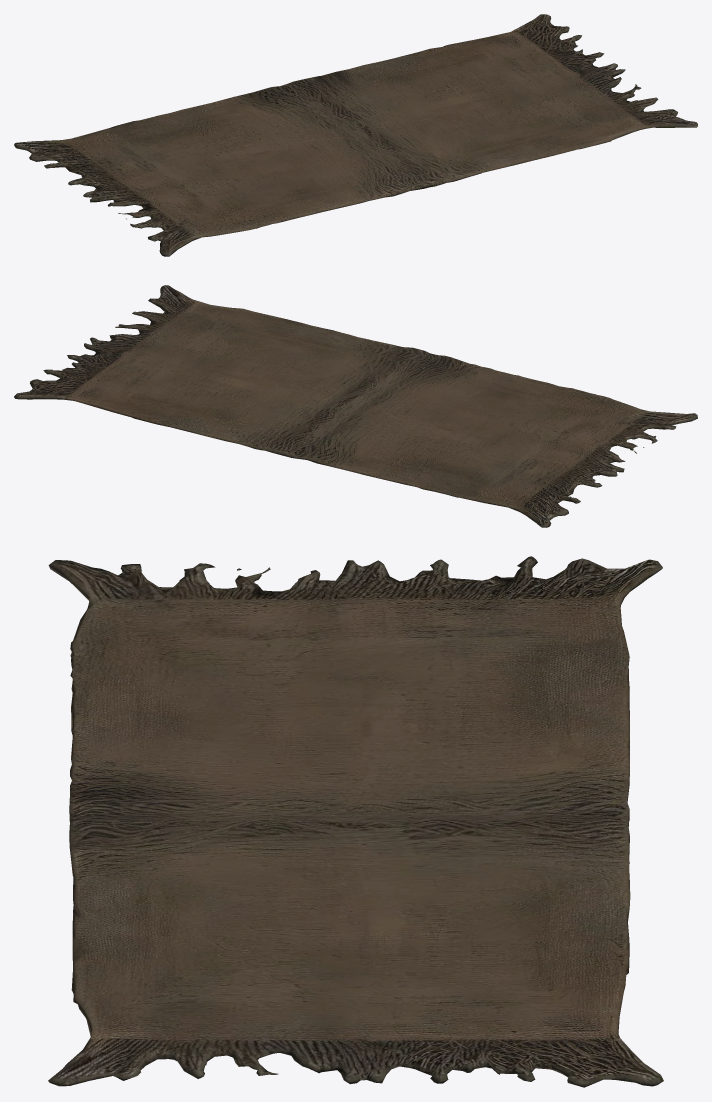
File: area-rug.glb
3 views of the same model, one above another, from view 1: azimuth 30°, elevation 25°; view 2: azimuth 150°, elevation 25°; view 3: azimuth 270°, elevation 25° (orthographic). The views are drawn at different scales.
Parts seen in each view (by area): view 1: input; view 2: input; view 3: input.
Boxes of the visible parts, <box> form: input: <box>14,14,697,256</box>; input: <box>14,285,697,527</box>; input: <box>48,556,663,1087</box>.
Size of the model in its own units: 1.8 by 0.0191 by 0.8912.
Materials: 1 (1 with a texture image).
